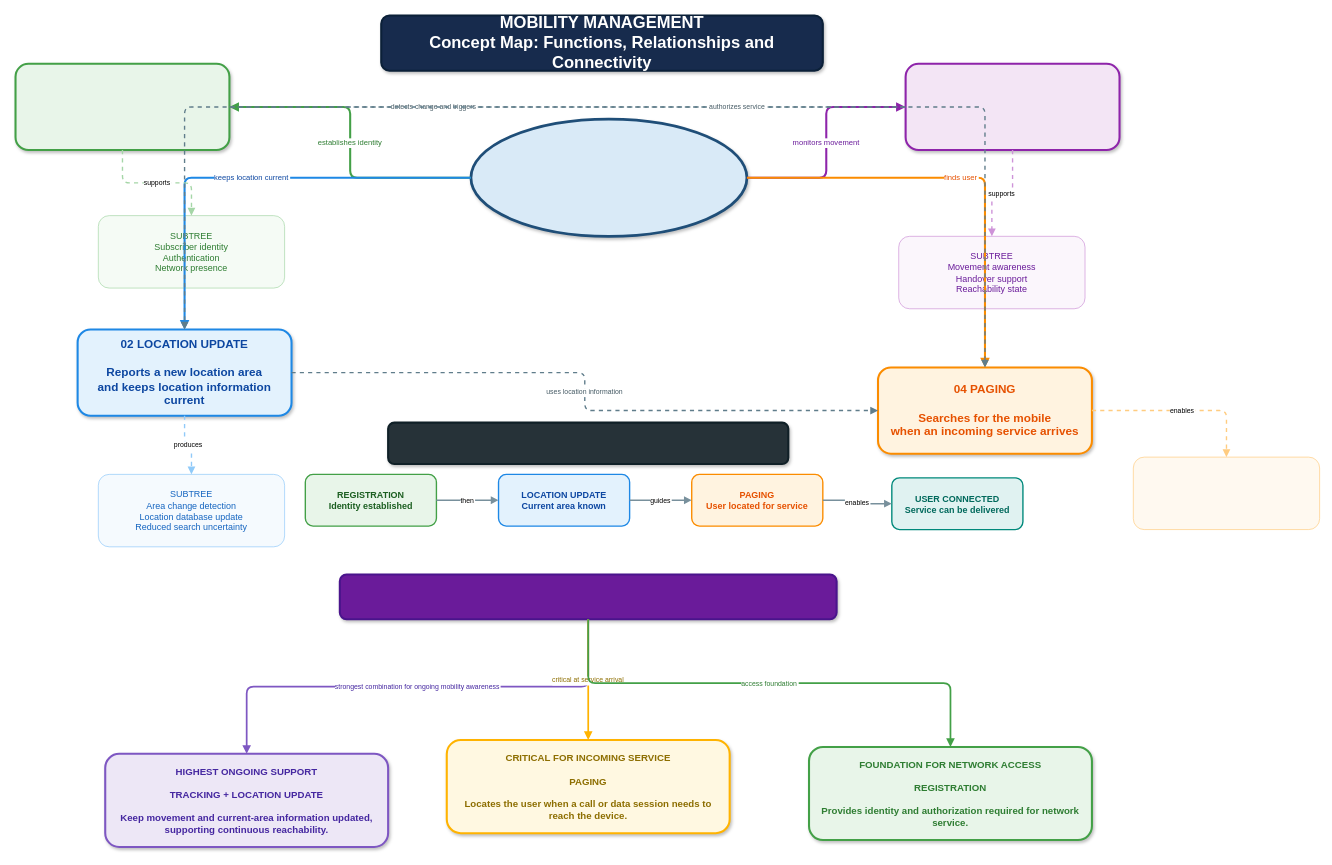
The diagram is 1332 pixels wide and 865 high, and some of its shapes have lost their labels. Here are the shapes that lost their labels. From the top down, the centre of each, then its label:
At pixel 122 108: "01 REGISTRATION Identifies and authenticates the mobile user/device".
At pixel 1012 108: "03 TRACKING Monitors user movement and serving-area changes".
At pixel 609 178: "MOBILITY MANAGEMENT Maintains user reachability while the user moves".
At pixel 588 444: "CONNECTIVITY PROCESS".
At pixel 1226 493: "SUBTREE Search area Radio contact Incoming service delivery".
At pixel 588 597: "EVALUATION: WHICH FUNCTIONS MOST EFFECTIVELY MAINTAIN CONNECTIVITY?".
